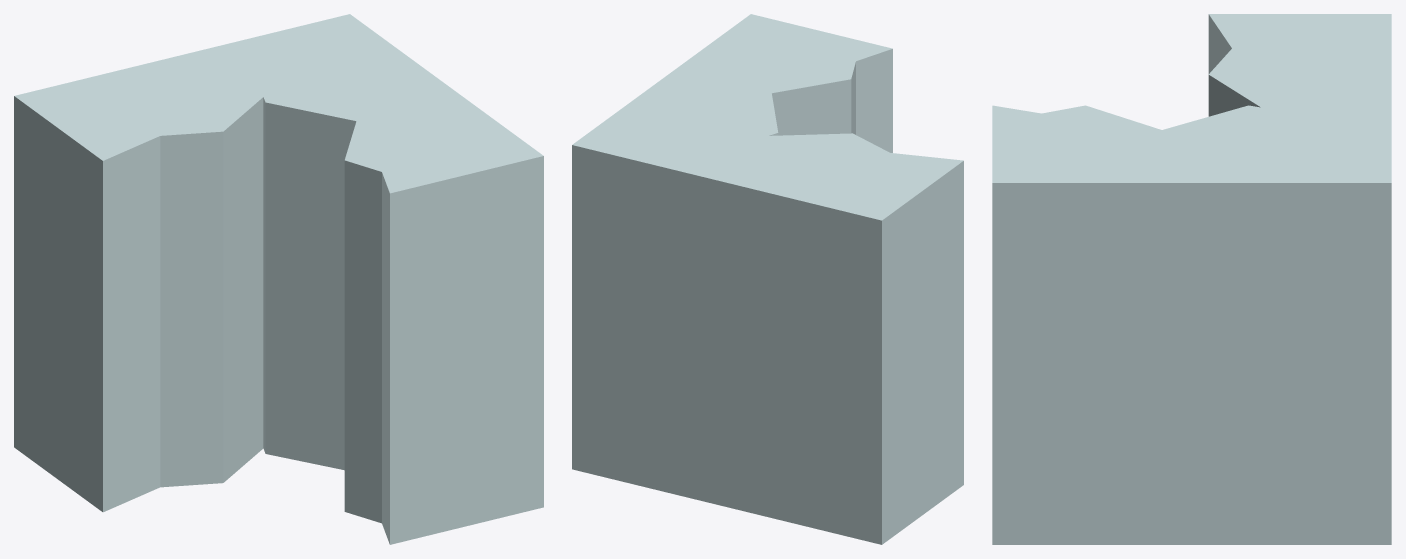
The model's file is cliffGrey_cornerInnerMid.glb.
3 renders of one model, left to right at view 1: azimuth 30°, elevation 25°; view 2: azimuth 150°, elevation 25°; view 3: azimuth 270°, elevation 25°, orthographic. The views are drawn at different scales.
Visible parts, largest first — view 1: cliffGrey_cornerInnerMid; view 2: cliffGrey_cornerInnerMid; view 3: cliffGrey_cornerInnerMid.
Boxes of the visible parts, x1,y1,x2,y2 form: cliffGrey_cornerInnerMid: (14,14,543,544); cliffGrey_cornerInnerMid: (572,14,963,544); cliffGrey_cornerInnerMid: (992,14,1391,544).
Size of the model in its own units: 1 by 1 by 1.
